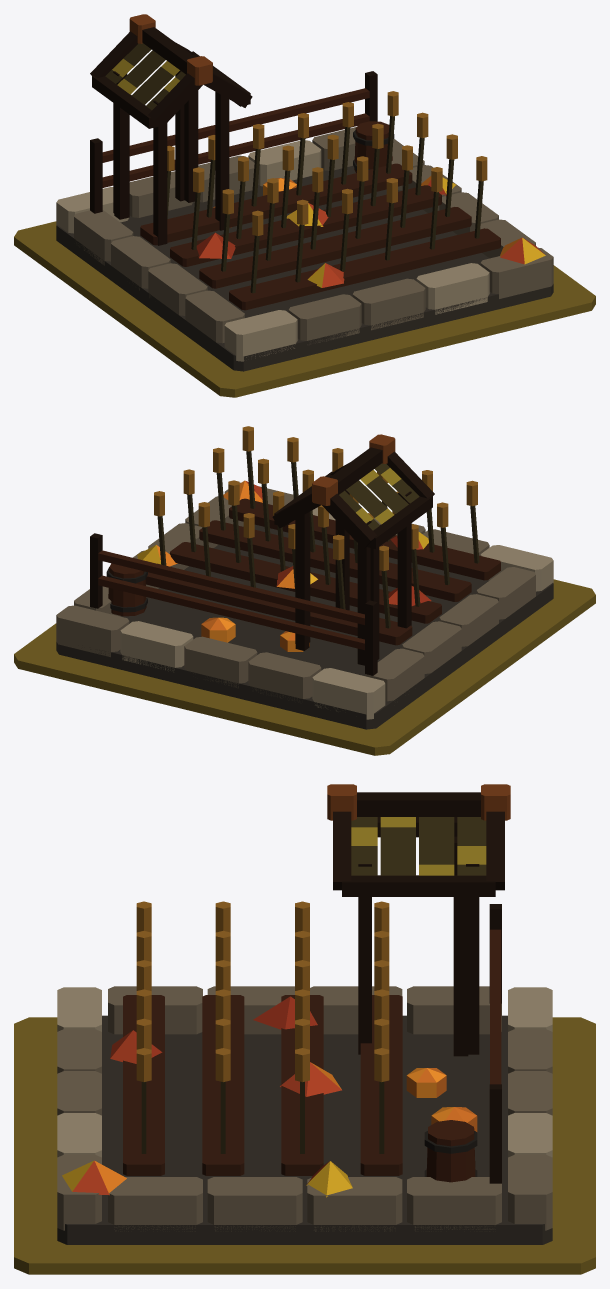
File: farm_t3.glb
3 renders of one model, top to bottom at view 1: azimuth 30°, elevation 25°; view 2: azimuth 150°, elevation 25°; view 3: azimuth 270°, elevation 25°, orthographic. The views are drawn at different scales.
Visible parts, largest first — view 1: MMR | farm | T03 Architecture.001, MMR | farm | Tier 03 Ground.001, MMR | farm | T03 Shelter Supports.001, MMR | farm | T03 Autumn Dressing.001; view 2: MMR | farm | T03 Architecture.001, MMR | farm | Tier 03 Ground.001, MMR | farm | T03 Shelter Supports.001, MMR | farm | T03 Autumn Dressing.001; view 3: MMR | farm | T03 Architecture.001, MMR | farm | Tier 03 Ground.001, MMR | farm | T03 Autumn Dressing.001, MMR | farm | T03 Shelter Supports.001.
Part boxes in pixels (box(x1,y1,x2,y2)): MMR | farm | T03 Architecture.001: box(56, 14, 553, 371); MMR | farm | Tier 03 Ground.001: box(14, 221, 595, 397); MMR | farm | T03 Shelter Supports.001: box(113, 70, 229, 245); MMR | farm | T03 Autumn Dressing.001: box(196, 176, 545, 287); MMR | farm | T03 Architecture.001: box(56, 426, 553, 729); MMR | farm | Tier 03 Ground.001: box(14, 579, 595, 755); MMR | farm | T03 Shelter Supports.001: box(295, 490, 411, 665); MMR | farm | T03 Autumn Dressing.001: box(137, 480, 431, 651); MMR | farm | T03 Architecture.001: box(57, 784, 552, 1244); MMR | farm | Tier 03 Ground.001: box(14, 1017, 595, 1274); MMR | farm | T03 Autumn Dressing.001: box(62, 996, 477, 1197); MMR | farm | T03 Shelter Supports.001: box(358, 864, 479, 1054).
Size of the model in its own units: 2.35 by 1.34 by 2.35.
1 material, 1 textured.
